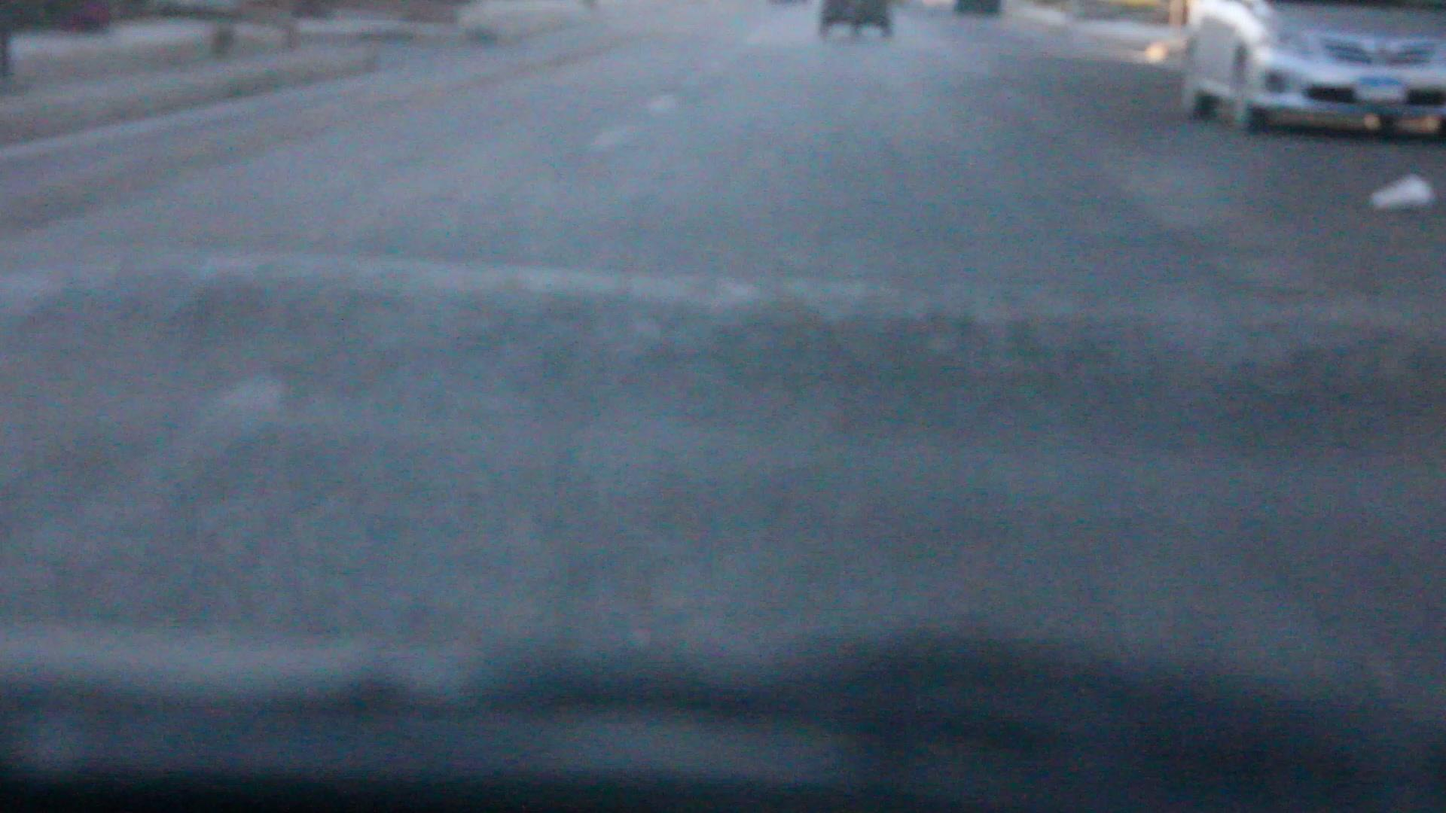Bump: (0, 241, 1444, 462)
